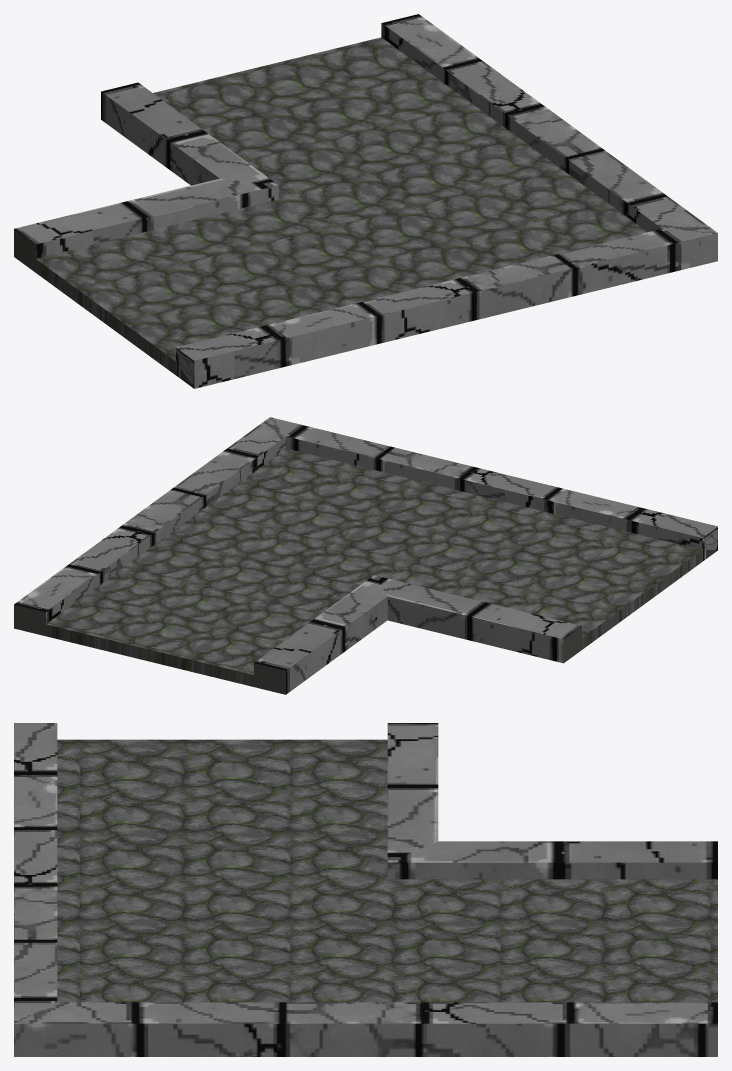
Rendered from SM_Modular_Road_01.fbx.
3 renders of one model, top to bottom at view 1: azimuth 30°, elevation 25°; view 2: azimuth 150°, elevation 25°; view 3: azimuth 270°, elevation 25°, orthographic. The views are drawn at different scales.
Parts seen in each view (by area): view 1: SM_Modular_Road_01; view 2: SM_Modular_Road_01; view 3: SM_Modular_Road_01.
Boxes of the visible parts, <box> form: SM_Modular_Road_01: <box>14,14,717,388</box>; SM_Modular_Road_01: <box>14,417,717,694</box>; SM_Modular_Road_01: <box>14,723,717,1056</box>.
Bounding box in the file's own units: 431 × 22.11 × 426.
Materials: 2 (2 with a texture image).
